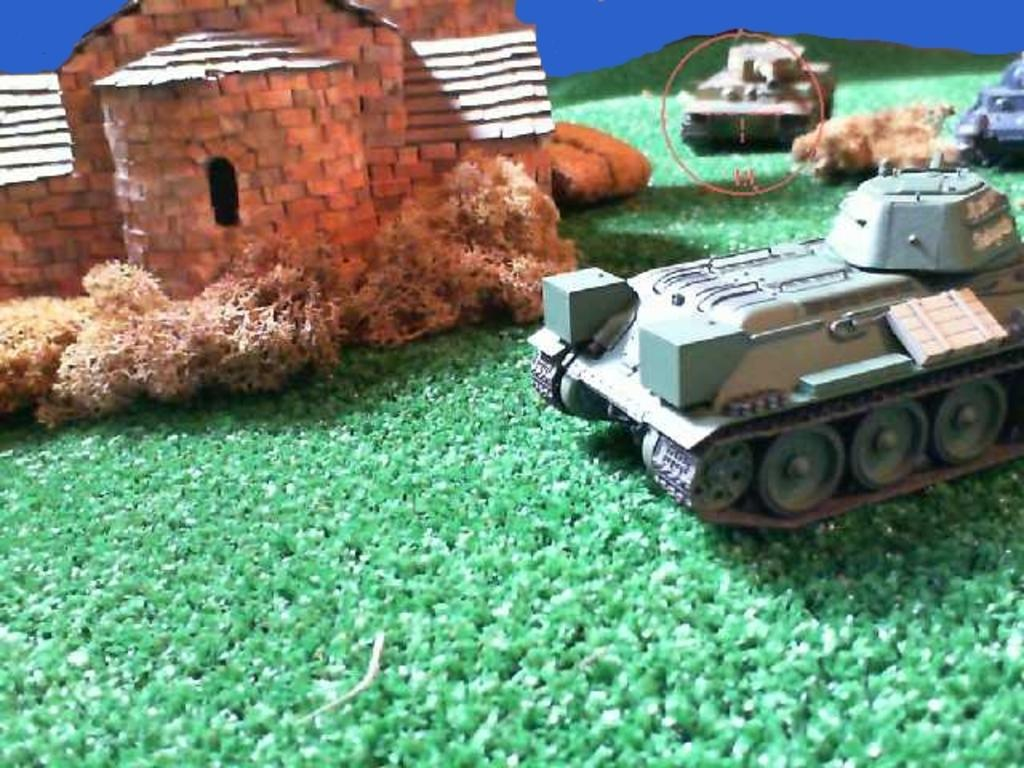Tank: (525, 166, 1022, 530), (683, 35, 838, 157), (950, 50, 1022, 171)
